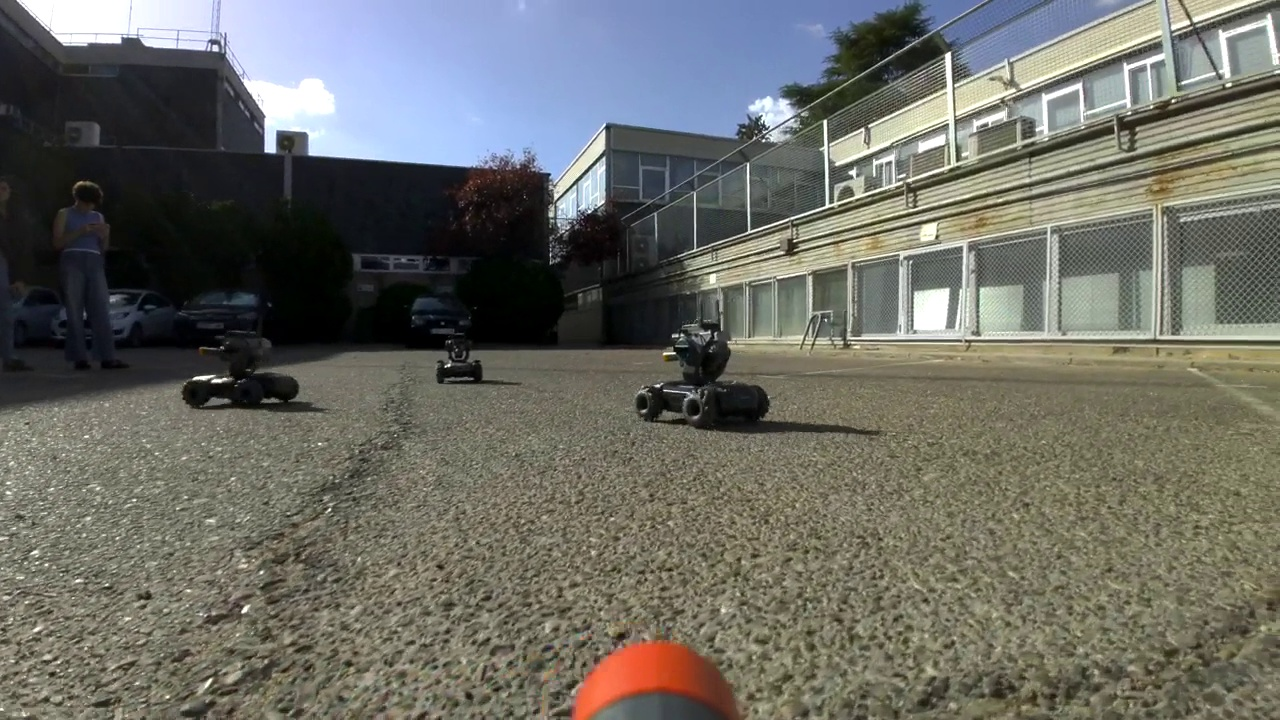robot: (634, 297, 771, 427), (177, 299, 299, 409), (436, 330, 484, 388)
